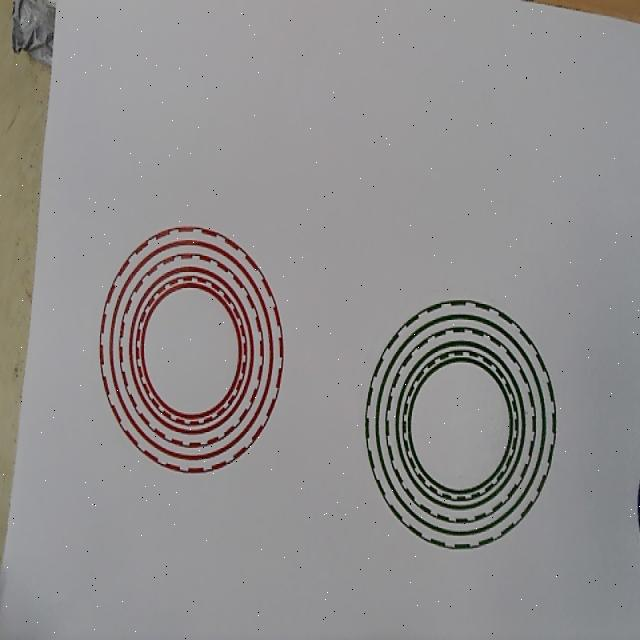g: (362, 299, 557, 551)
red-green-blue: (99, 225, 284, 474)
